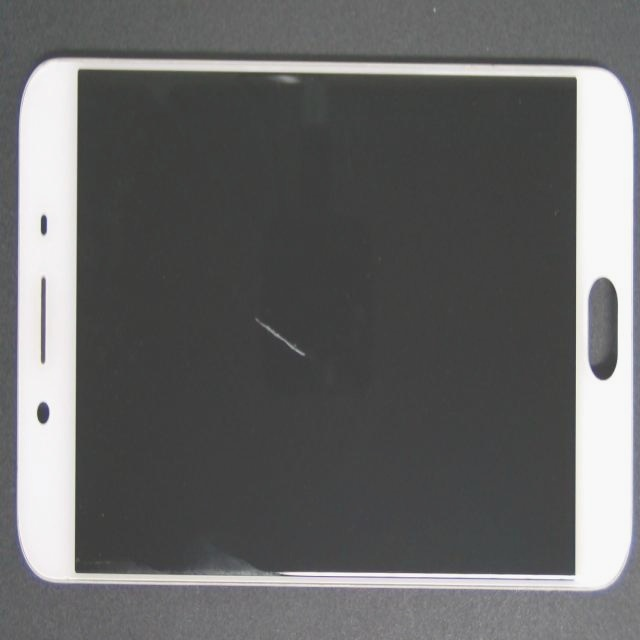scratch: (119, 121, 370, 455)
